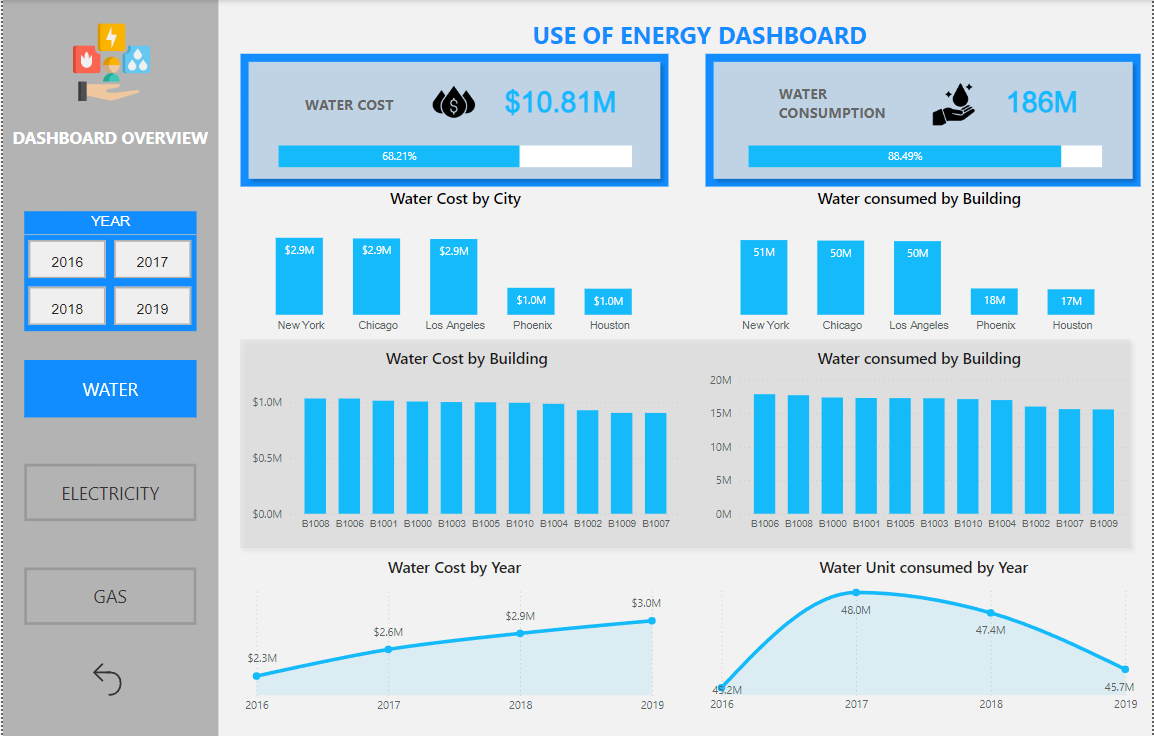

What the dashboard file says about the page in this screenshot:
{"tool":"powerbi","page":{"name":"WATER","canvas":[1280,820],"ordinal":1},"visuals":[{"type":"shape","title":"Total Cost","box":[782.9,60.4,484.9,148.3],"z":0},{"type":"shape","title":"Total Cost","box":[265.1,60.4,476.6,148.3],"z":1000},{"type":"shape","box":[254.8,368.9,1010.7,250.6],"z":2000},{"type":"shape","box":[0,0,240.4,820],"z":3000},{"type":"image","box":[66.3,15.7,108.5,108.5],"z":4000},{"type":"areaChart","fields":{"Category":["Energy Consumptions.Year"],"Y":["All Measures.Water Cost"]},"box":[265.1,619.5,476.6,184.1],"z":5000},{"type":"areaChart","fields":{"Category":["Energy Consumptions.Year"],"Y":["All Measures.Water Unit consumed"]},"box":[782.4,619.5,485.9,183.8],"z":6000},{"type":"columnChart","fields":{"Category":["Energy Consumptions.Building"],"Y":["All Measures.Water Cost"]},"box":[272.9,387,487.3,214.4],"z":7000},{"type":"clusteredColumnChart","title":"Water consumed by Building","fields":{"Category":["Energy Consumptions.Building"],"Y":["All Measures.Water Unit consumed"]},"box":[782.4,387,476.1,214.4],"z":8000},{"type":"columnChart","fields":{"Y":["All Measures.Water Cost"],"Category":["Building Master.City"]},"box":[264.5,208.8,478.9,172],"z":9000},{"type":"clusteredColumnChart","title":"Water consumed by Building","fields":{"Y":["All Measures.Water Unit consumed"],"Category":["Building Master.City"]},"box":[782.4,208.8,476.1,172],"z":10000},{"type":"card","fields":{"Values":["All Measures.Water Cost"]},"box":[501.2,75.2,239.5,76.6],"z":11000},{"type":"card","fields":{"Values":["All Measures.Water Unit consumed"]},"box":[1037.2,75.2,239.5,76.6],"z":12000},{"type":"hundredPercentStackedBarChart","fields":{"Y":["All Measures.Water Cost","All Measures.Water Cost left"]},"box":[302.2,116.8,403.8,108.5],"z":13000},{"type":"hundredPercentStackedBarChart","fields":{"Y":["All Measures.Water Unit consumed","All Measures.Water Unit consumed left"]},"box":[825.5,116.8,403.8,108.5],"z":14000},{"type":"textbox","box":[331.3,100.2,139.2,39],"z":15000},{"type":"textbox","box":[859,87.7,178.2,64],"z":16000},{"type":"textbox","box":[584.9,15.3,438.7,62.7],"z":17000},{"type":"image","box":[1027.4,87.7,62.6,57.1],"z":18000},{"type":"image","box":[470.6,84.9,62.6,57.1],"z":19000},{"type":"textbox","box":[5.6,135,235.3,69.6],"z":20000},{"type":"actionButton","box":[23.2,401.1,191.8,63.9],"z":21000},{"type":"actionButton","box":[23.2,516.9,191.8,63.9],"z":22000},{"type":"actionButton","box":[23.2,632.7,191.8,63.9],"z":23000},{"type":"actionButton","box":[91.9,732.3,64,48.7],"z":24000},{"type":"advancedSlicerVisual","title":"YEAR","fields":{"Values":["Energy Consumptions.Year"]},"box":[23.7,235.3,192.1,133.7],"z":25000}]}

Visuals, with their boxes in screenshot pixels (x1, y1, x2, y2), scaled from the page's 1280x820 canvas onto the 1154x736 screenshot:
"Total Cost" shape: box=[706, 54, 1143, 187]
"Total Cost" shape: box=[239, 54, 669, 187]
shape: box=[230, 331, 1141, 556]
shape: box=[0, 0, 217, 735]
image: box=[60, 14, 158, 111]
areaChart - Energy Consumptions.Year x All Measures.Water Cost: box=[239, 556, 669, 721]
areaChart - Energy Consumptions.Year x All Measures.Water Unit consumed: box=[705, 556, 1143, 721]
columnChart - Energy Consumptions.Building x All Measures.Water Cost: box=[246, 347, 685, 540]
"Water consumed by Building" clusteredColumnChart: box=[705, 347, 1135, 540]
columnChart - All Measures.Water Cost x Building Master.City: box=[238, 187, 670, 342]
"Water consumed by Building" clusteredColumnChart: box=[705, 187, 1135, 342]
card - All Measures.Water Cost: box=[452, 67, 668, 136]
card - All Measures.Water Unit consumed: box=[935, 67, 1151, 136]
hundredPercentStackedBarChart - All Measures.Water Cost x All Measures.Water Cost left: box=[272, 105, 637, 202]
hundredPercentStackedBarChart - All Measures.Water Unit consumed x All Measures.Water Unit consumed left: box=[744, 105, 1108, 202]
textbox: box=[299, 90, 424, 125]
textbox: box=[774, 79, 935, 136]
textbox: box=[527, 14, 923, 70]
image: box=[926, 79, 983, 130]
image: box=[424, 76, 481, 127]
textbox: box=[5, 121, 217, 184]
actionButton: box=[21, 360, 194, 417]
actionButton: box=[21, 464, 194, 521]
actionButton: box=[21, 568, 194, 625]
actionButton: box=[83, 657, 141, 701]
"YEAR" advancedSlicerVisual: box=[21, 211, 195, 331]
